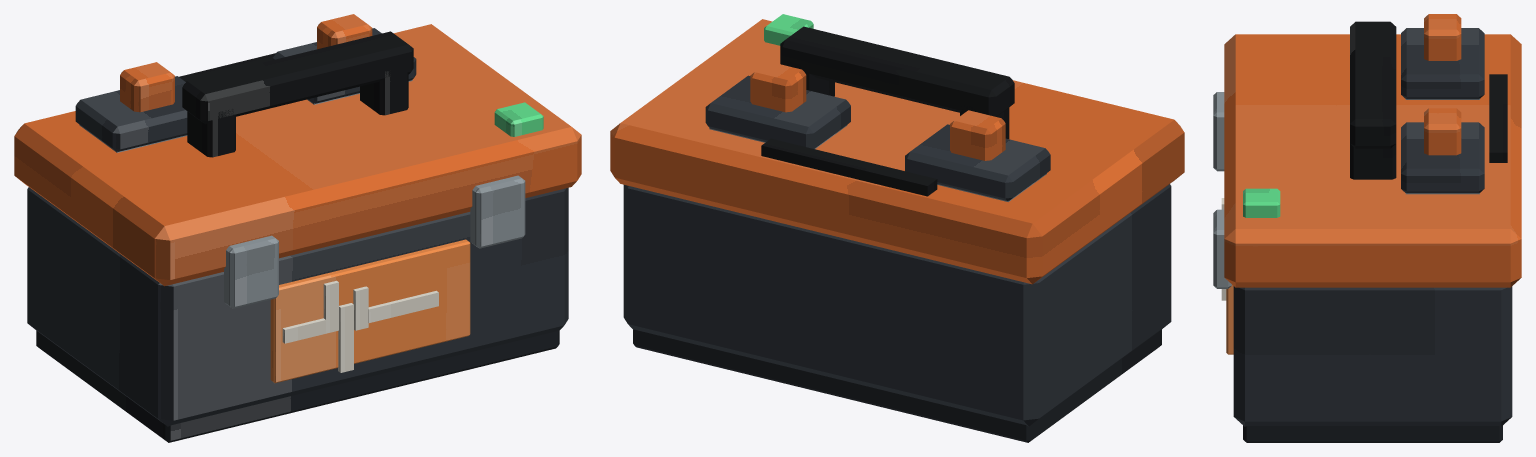
The model's file is revive_kit.glb.
The picture shows the model from 3 angles, left to right: view 1: azimuth 30°, elevation 25°; view 2: azimuth 150°, elevation 25°; view 3: azimuth 270°, elevation 25°; orthographic projection. The views are drawn at different scales.
Parts seen in each view (by area): view 1: CaseLid, CaseBody, EmblemPlate, Handle, CaseFoot, PaddleL, LatchR, LatchL, PaddleGripL, HandlePostL, HandlePostR, PaddleGripR (+8 smaller); view 2: CaseBody, CaseLid, Handle, CaseFoot, PaddleL, PaddleR, Cable, PaddleGripR, PaddleGripL, ChargeLamp, HandlePostR; view 3: CaseLid, CaseBody, Handle, PaddleL, PaddleR, CaseFoot, PaddleGripR, PaddleGripL, Cable, HandlePostR, ChargeLamp, LatchR (+2 smaller).
Boxes of the visible parts, x1,y1,x2,y2 form: CaseLid: (14, 24, 581, 286); CaseBody: (27, 187, 568, 426); EmblemPlate: (270, 239, 470, 383); Handle: (182, 31, 413, 124); CaseFoot: (36, 330, 559, 442); PaddleL: (75, 76, 187, 151); LatchR: (470, 175, 525, 248); LatchL: (224, 235, 278, 308); PaddleGripL: (120, 62, 174, 112); HandlePostL: (187, 109, 235, 157); HandlePostR: (360, 70, 408, 115); PaddleGripR: (317, 14, 372, 49); CaseBody: (623, 184, 1171, 426); CaseLid: (610, 19, 1184, 284); Handle: (780, 26, 1014, 116); CaseFoot: (633, 329, 1161, 442); PaddleL: (905, 124, 1050, 200); PaddleR: (705, 75, 850, 148); Cable: (761, 138, 937, 196); PaddleGripR: (750, 61, 806, 112); PaddleGripL: (950, 110, 1005, 160); ChargeLamp: (764, 14, 813, 45); HandlePostR: (787, 62, 834, 96); CaseLid: (1224, 34, 1521, 287); CaseBody: (1233, 286, 1512, 426); Handle: (1350, 21, 1396, 148); PaddleL: (1401, 28, 1484, 99); PaddleR: (1401, 122, 1484, 193); CaseFoot: (1243, 425, 1502, 442); PaddleGripR: (1424, 108, 1461, 155); PaddleGripL: (1424, 14, 1461, 60); Cable: (1489, 74, 1507, 162); HandlePostR: (1350, 144, 1396, 179); ChargeLamp: (1243, 188, 1280, 217); LatchR: (1213, 209, 1231, 288).
Bounding box in the file's own units: 0.52 × 0.3325 × 0.332.
Materials: 1 (1 with a texture image).
